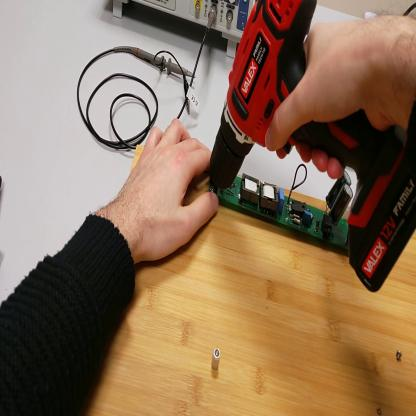electric screwdriver: (212, 3, 416, 295)
hand: (266, 18, 404, 169), (122, 121, 220, 263)
high voltage board: (211, 154, 356, 252)
oscilloscope: (113, 1, 255, 62)
oscilloscope probe tip: (126, 46, 197, 82)
working area: (86, 146, 416, 416)
